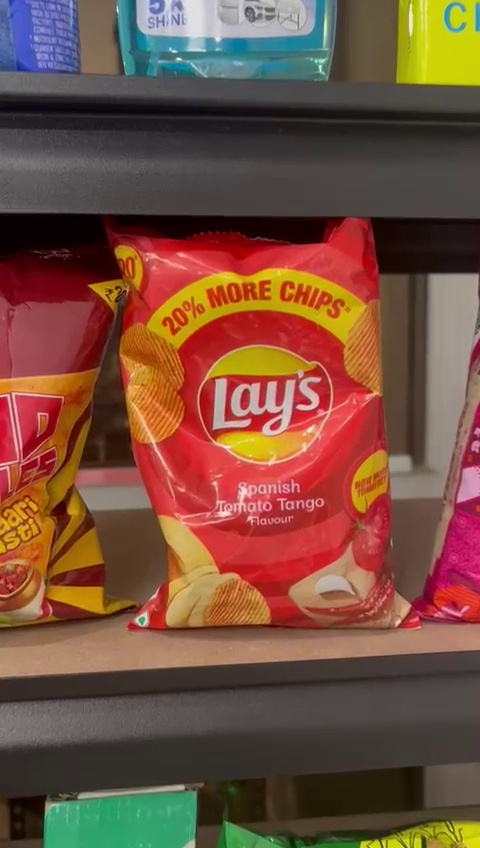Lays: (109, 219, 415, 630)
